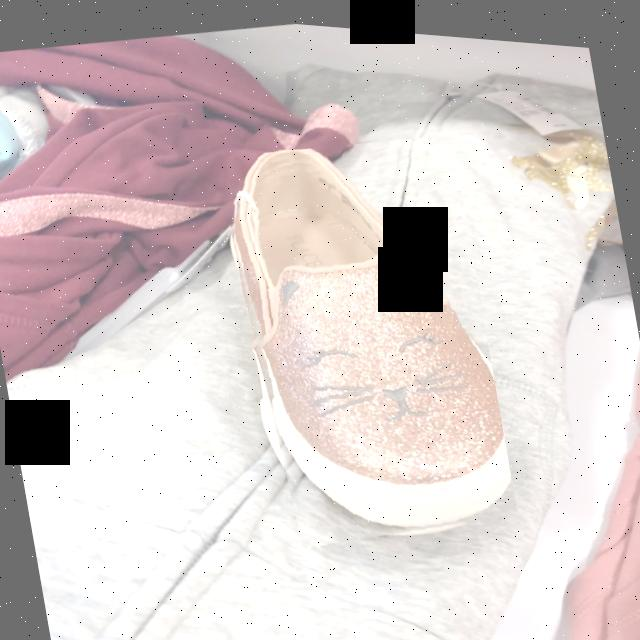shoe: (232, 143, 511, 524)
